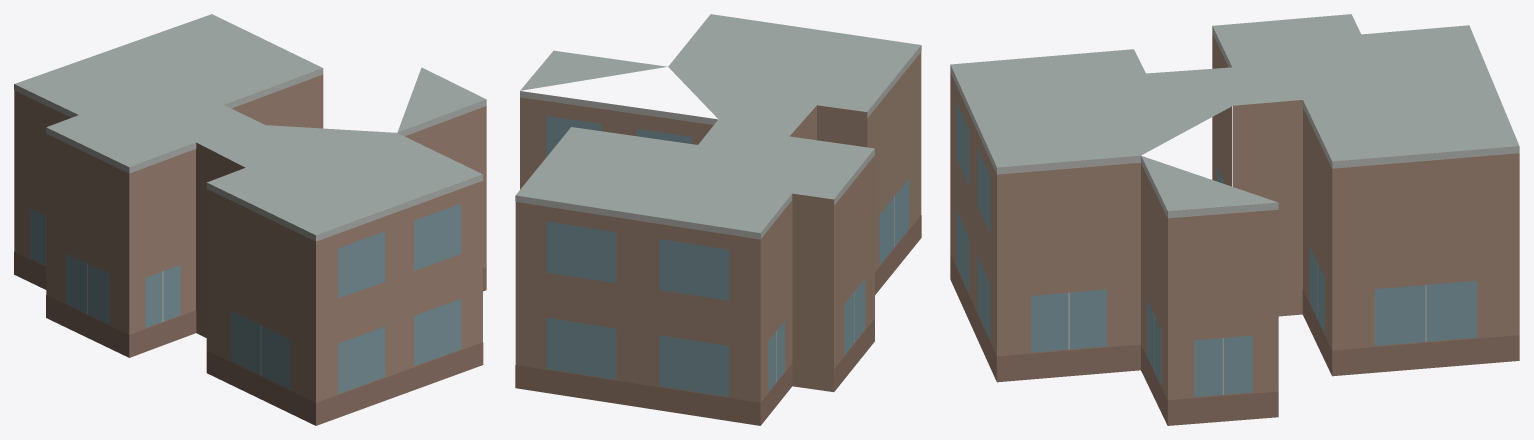
File: survey-upis-32463719.glb
3 renders of one model, left to right at view 1: azimuth 30°, elevation 25°; view 2: azimuth 150°, elevation 25°; view 3: azimuth 270°, elevation 25°, orthographic. The views are drawn at different scales.
Visible parts, largest first — view 1: survey-upis-32463719.tmp; view 2: survey-upis-32463719.tmp; view 3: survey-upis-32463719.tmp.
Boxes of the visible parts, left/top/right/bottom form: survey-upis-32463719.tmp: left=14, top=14, right=486, bottom=425; survey-upis-32463719.tmp: left=515, top=14, right=921, bottom=425; survey-upis-32463719.tmp: left=950, top=14, right=1519, bottom=425.
Bounding box in the file's own units: 14.48 × 7.34 × 17.66.
